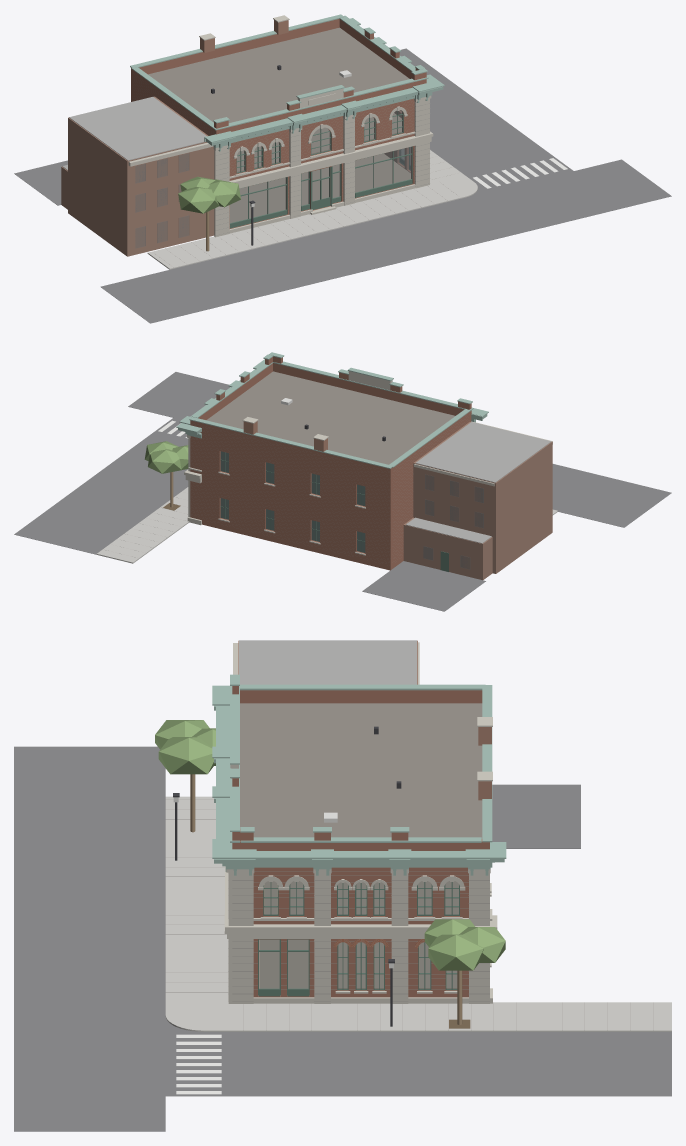
The model's file is clay-halifax-waterfront-warehouse-clay-v006.glb.
The picture shows the model from 3 angles, top to bottom: view 1: azimuth 30°, elevation 25°; view 2: azimuth 150°, elevation 25°; view 3: azimuth 270°, elevation 25°; orthographic projection. The views are drawn at different scales.
Visible parts, largest first — view 1: CLAY_ASPHALT, CLAY_NEIGHBOUR, CLAY_ROOF, CLAY_WALL, CLAY_STONE, CLAY_CONCRETE, CLAY_GLASS, CLAY_COPPER, CLAY_FLOOR, CLAY_MEMBRANE, CLAY_FRAME, CLAY_PLANTING (+2 smaller); view 2: CLAY_WALL, CLAY_ASPHALT, CLAY_NEIGHBOUR, CLAY_ROOF, CLAY_MEMBRANE, CLAY_COPPER, CLAY_CONCRETE, CLAY_GLASS, CLAY_STONE, CLAY_FRAME, CLAY_PLANTING; view 3: CLAY_ASPHALT, CLAY_ROOF, CLAY_CONCRETE, CLAY_WALL, CLAY_STONE, CLAY_COPPER, CLAY_MEMBRANE, CLAY_GLASS, CLAY_FLOOR, CLAY_PLANTING, CLAY_FRAME, CLAY_JOINT (+2 smaller).
Boxes of the visible parts, left/top/right/bottom form: CLAY_ASPHALT: left=14, top=48, right=671, bottom=323; CLAY_NEIGHBOUR: left=61, top=96, right=214, bottom=256; CLAY_ROOF: left=148, top=27, right=409, bottom=122; CLAY_WALL: left=131, top=19, right=426, bottom=228; CLAY_STONE: left=128, top=15, right=433, bottom=237; CLAY_CONCRETE: left=147, top=149, right=477, bottom=269; CLAY_GLASS: left=135, top=110, right=411, bottom=248; CLAY_COPPER: left=130, top=14, right=444, bottom=151; CLAY_FLOOR: left=230, top=113, right=410, bottom=222; CLAY_MEMBRANE: left=62, top=97, right=206, bottom=170; CLAY_FRAME: left=230, top=111, right=412, bottom=228; CLAY_PLANTING: left=178, top=176, right=240, bottom=213; CLAY_WALL: left=190, top=356, right=471, bottom=570; CLAY_ASPHALT: left=14, top=372, right=671, bottom=611; CLAY_NEIGHBOUR: left=403, top=422, right=552, bottom=580; CLAY_ROOF: left=206, top=371, right=454, bottom=464; CLAY_MEMBRANE: left=406, top=422, right=551, bottom=543; CLAY_COPPER: left=176, top=352, right=488, bottom=468; CLAY_CONCRETE: left=96, top=487, right=557, bottom=563; CLAY_GLASS: left=220, top=451, right=483, bottom=569; CLAY_STONE: left=184, top=371, right=552, bottom=555; CLAY_FRAME: left=220, top=451, right=448, bottom=571; CLAY_PLANTING: left=144, top=441, right=188, bottom=473; CLAY_ASPHALT: left=14, top=746, right=671, bottom=1131; CLAY_ROOF: left=240, top=703, right=482, bottom=838; CLAY_CONCRETE: left=165, top=796, right=671, bottom=1031; CLAY_WALL: left=232, top=686, right=489, bottom=997; CLAY_STONE: left=224, top=642, right=497, bottom=1003; CLAY_COPPER: left=212, top=674, right=506, bottom=875; CLAY_MEMBRANE: left=239, top=640, right=416, bottom=684; CLAY_GLASS: left=259, top=881, right=458, bottom=988; CLAY_FLOOR: left=259, top=881, right=458, bottom=988; CLAY_PLANTING: left=155, top=720, right=505, bottom=970; CLAY_FRAME: left=258, top=882, right=459, bottom=996; CLAY_JOINT: left=166, top=799, right=653, bottom=1030.
Size of the model in its own units: 60 by 13.3 by 43.4.
